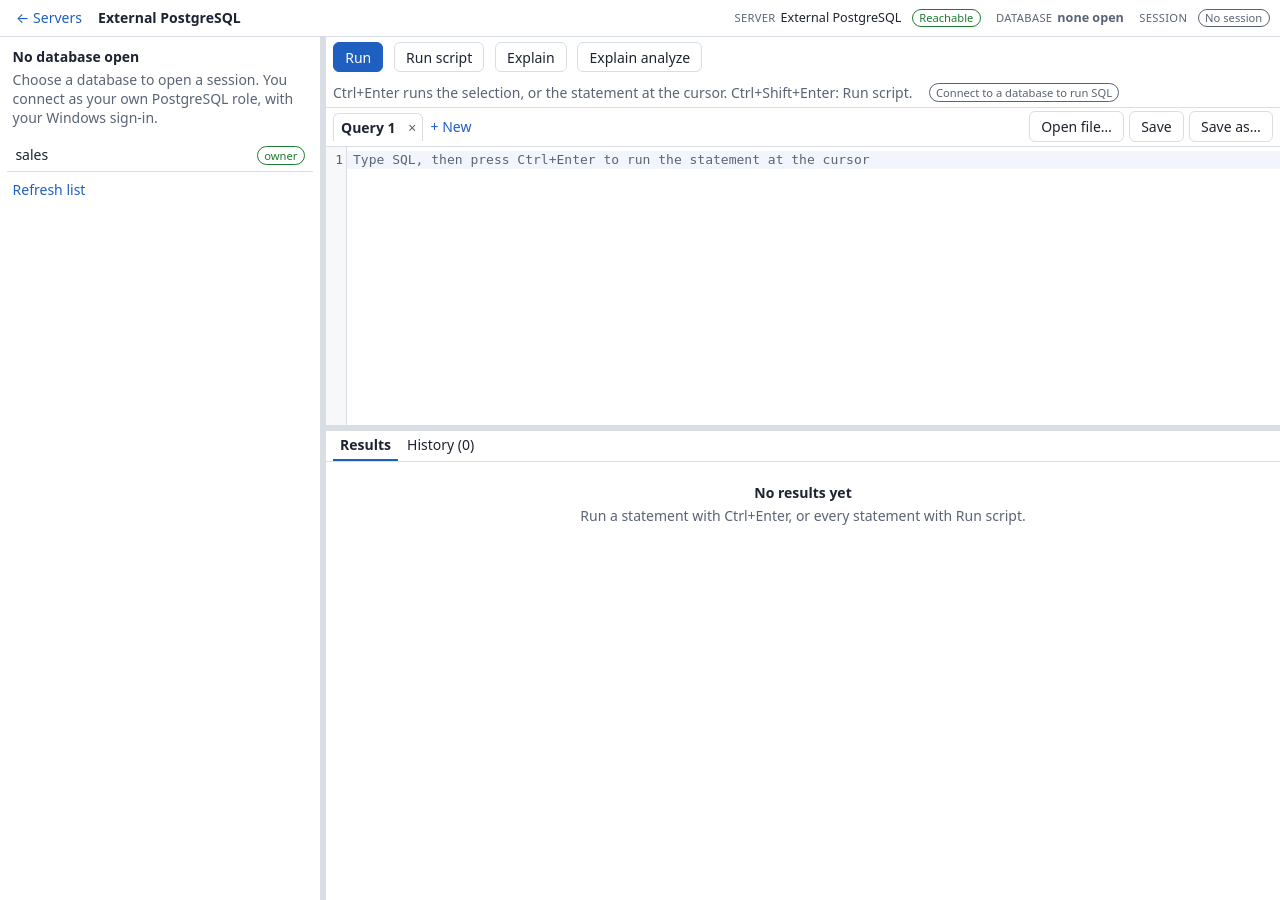
Scenario: Workspace execution › an ended session reported as 410 also asks to connect again
Click the button "sales owner": click(32, 155) [7,139,313,172]
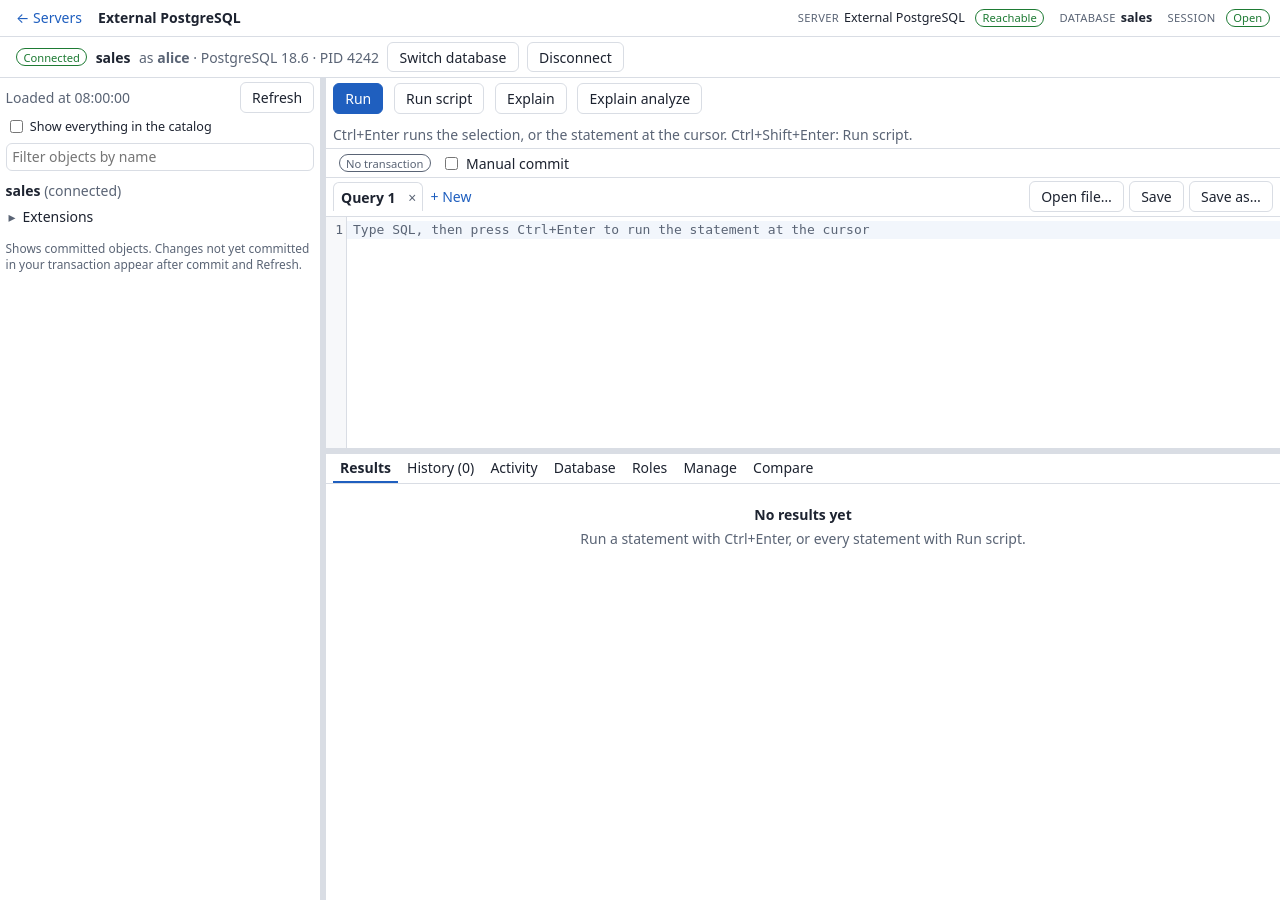
Expected: the field named "SQL editor" is shown, [347,221,1279,239]
Click the button "Run": click(358, 99) [333,83,383,114]
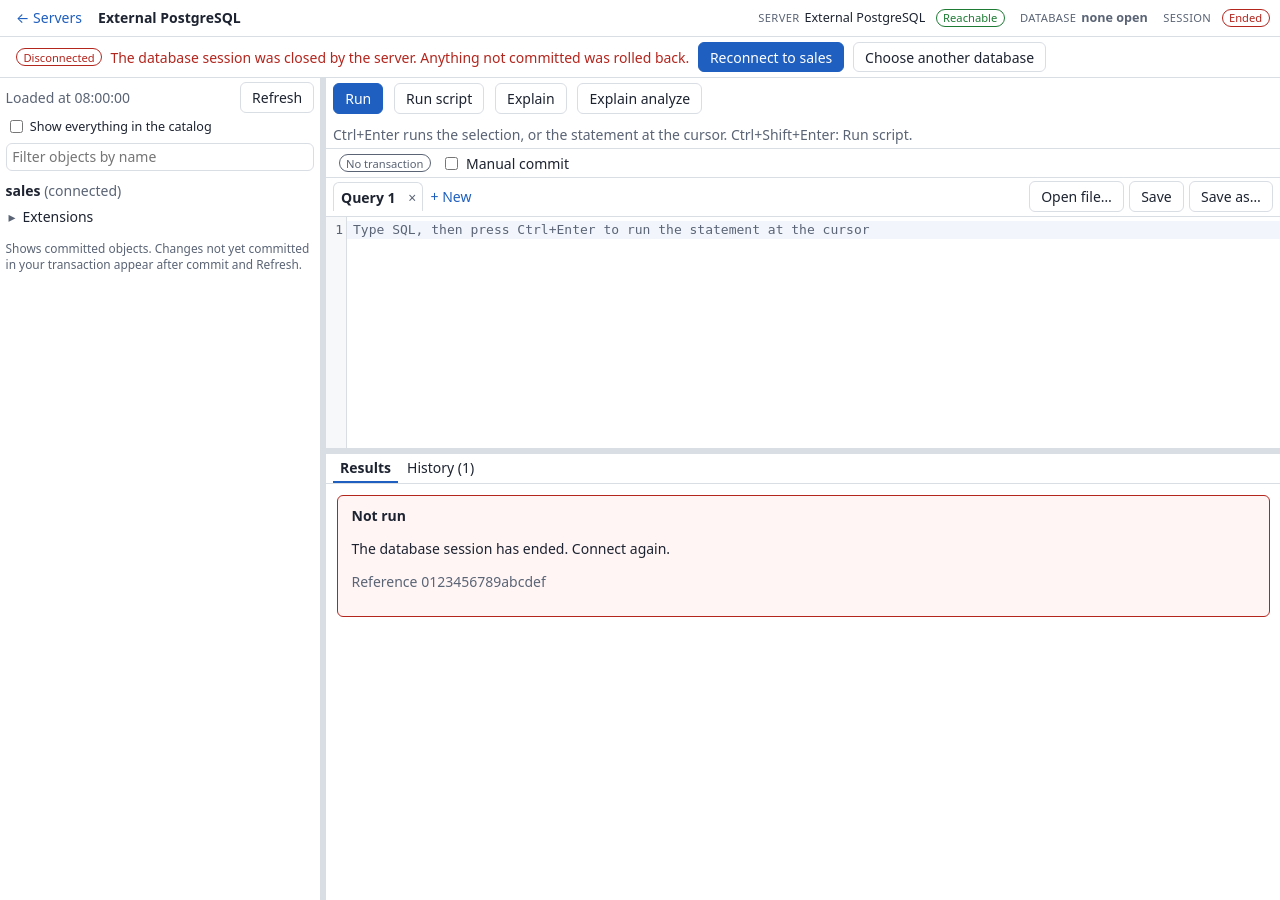
Result: the text "closed by the server. Anything not committed was rolled back" is shown at [110,48,689,67]
Result: the text "The database session has ended. Connect again." is shown at [352,540,670,558]
